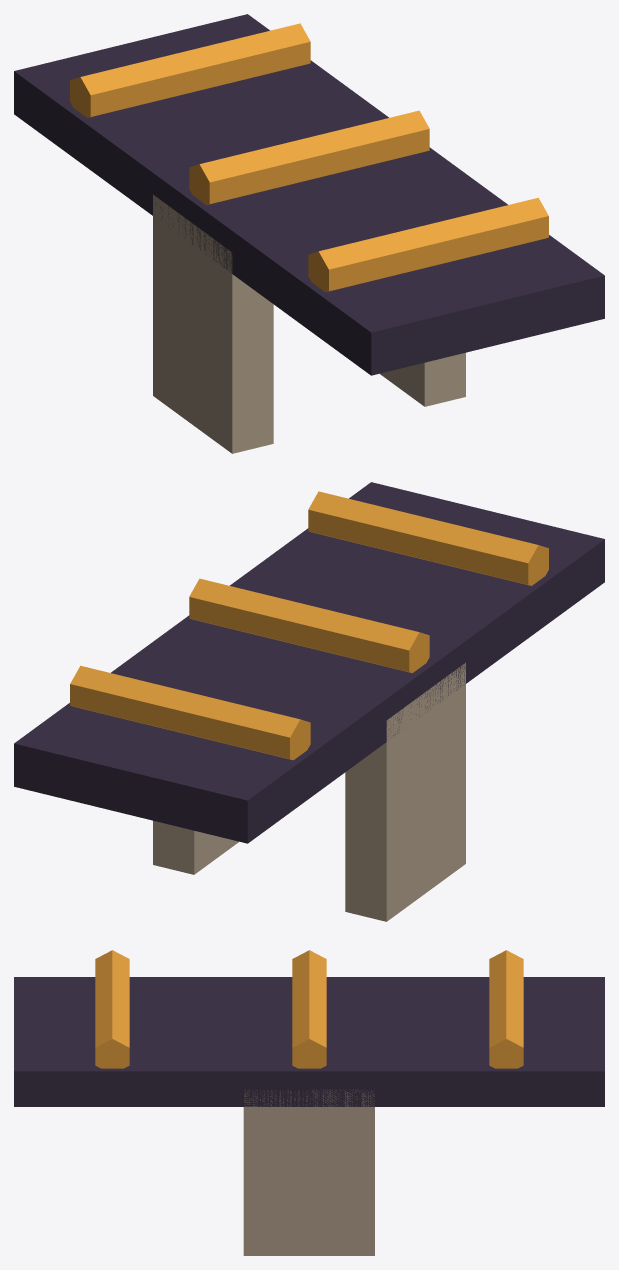
Rendered from conveyor-segment.glb.
3 renders of one model, top to bottom at view 1: azimuth 30°, elevation 25°; view 2: azimuth 150°, elevation 25°; view 3: azimuth 270°, elevation 25°, orthographic. The views are drawn at different scales.
Visible parts, largest first — view 1: factory-conveyor-segment; view 2: factory-conveyor-segment; view 3: factory-conveyor-segment.
Part boxes in pixels (left/top/right/bottom): factory-conveyor-segment: left=14, top=14, right=604, bottom=453; factory-conveyor-segment: left=14, top=482, right=604, bottom=921; factory-conveyor-segment: left=14, top=950, right=604, bottom=1255.
Size of the model in its own units: 0.34 by 0.36 by 0.9.
